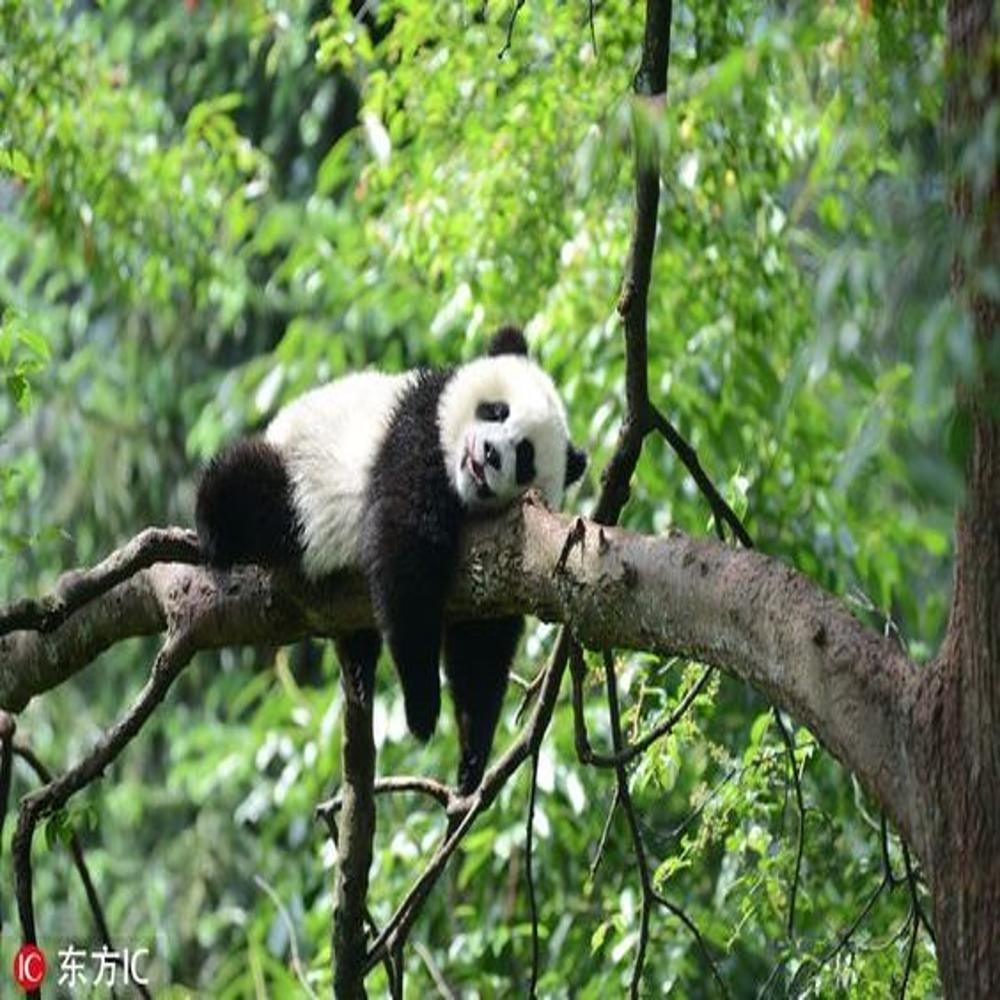panda: (200, 316, 590, 778)
